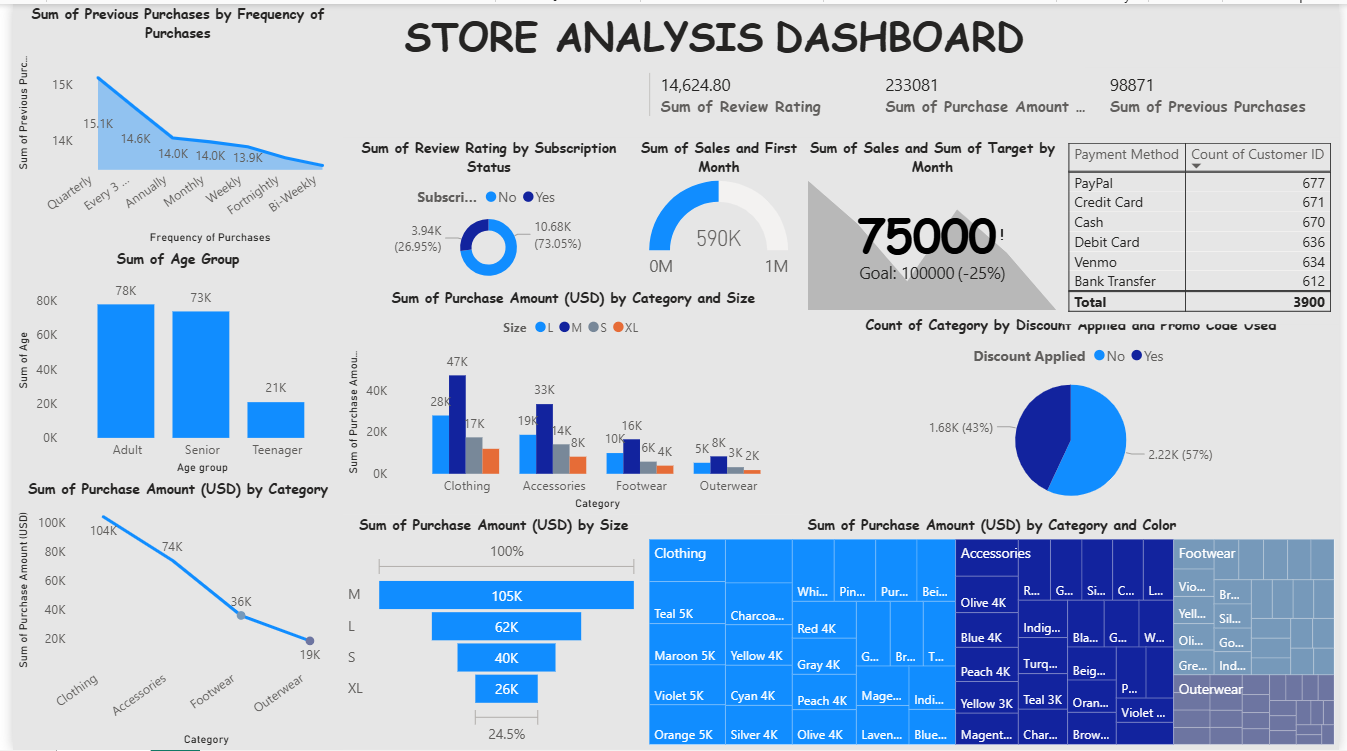

Layout of this report page (visuals, bound fields, positions):
{"tool":"powerbi","page":{"name":"Page 1","canvas":[1280,720],"ordinal":0},"visuals":[{"type":"clusteredColumnChart","title":"Sum of Age Group","fields":{"Y":["Sum(Store Analysis data.Age)"],"Category":["Store Analysis data.Age group"]},"box":[0,236,318.4,222.3],"z":0},{"type":"lineChart","fields":{"Category":["Store Analysis data.Category"],"Y":["Sum(Store Analysis data.Purchase Amount (USD))"]},"box":[0,458.3,318.4,262.1],"z":1000},{"type":"pieChart","fields":{"Category":["Store Analysis data.Discount Applied"],"Series":["Store Analysis data.Promo Code Used"],"Y":["CountNonNull(Store Analysis data.Category)"]},"box":[763,300.5,517.3,193.5],"z":2000},{"type":"funnel","fields":{"Category":["Store Analysis data.Size"],"Y":["Sum(Store Analysis data.Purchase Amount (USD))"]},"box":[318.4,494,290.9,226.4],"z":3000},{"type":"treemap","fields":{"Group":["Store Analysis data.Category"],"Details":["Store Analysis data.Color"],"Values":["Sum(Store Analysis data.Purchase Amount (USD))"]},"box":[609.3,494,671,226.4],"z":5000},{"type":"stackedAreaChart","fields":{"Category":["Store Analysis data.Frequency of Purchases"],"Y":["Sum(Store Analysis data.Previous Purchases)"]},"box":[0,0,318.4,236],"z":6000},{"type":"multiRowCard","fields":{"Values":["Sum(Store Analysis data.Review Rating)","Sum(Store Analysis data.Purchase Amount (USD))","Sum(Store Analysis data.Previous Purchases)"]},"box":[609.3,61.7,671,67.2],"z":7000},{"type":"clusteredColumnChart","fields":{"Category":["Store Analysis data.Category"],"Y":["Sum(Store Analysis data.Purchase Amount (USD))"],"Series":["Store Analysis data.Size"]},"box":[318.4,274.4,444.6,219.6],"z":8000},{"type":"tableEx","fields":{"Values":["Store Analysis data.Payment Method","CountNonNull(Store Analysis data.Customer ID)"]},"box":[1012.7,129,267.6,179.8],"z":9000},{"type":"textbox","box":[318.4,0,716.3,64.5],"z":10000},{"type":"donutChart","fields":{"Y":["Sum(Store Analysis data.Review Rating)"],"Category":["Store Analysis data.Subscription Status"]},"box":[318.4,129,281.3,145.5],"z":11000},{"type":"kpi","fields":{"Indicator":["Sum(Sheet1.Sales)"],"Goal":["Sum(Sheet1.Target)"],"TrendLine":["Sheet1.Month"]},"box":[763,129,249.7,171.5],"z":12000},{"type":"gauge","fields":{"Y":["Sum(Sheet1.Sales)"]},"box":[599.7,129,163.3,145.5],"z":13000}]}

Visuals, with their boxes in screenshot pixels (x1, y1, x2, y2), scaled from the page's 1280x720 canvas onto the 1347x751 screenshot:
"Sum of Age Group" clusteredColumnChart: [left=0, top=246, right=335, bottom=478]
lineChart - Store Analysis data.Category x Sum(Store Analysis data.Purchase Amount (USD)): [left=0, top=478, right=335, bottom=750]
pieChart - Store Analysis data.Discount Applied x Store Analysis data.Promo Code Used: [left=803, top=313, right=1346, bottom=515]
funnel - Store Analysis data.Size x Sum(Store Analysis data.Purchase Amount (USD)): [left=335, top=515, right=641, bottom=750]
treemap - Store Analysis data.Category x Store Analysis data.Color: [left=641, top=515, right=1346, bottom=750]
stackedAreaChart - Store Analysis data.Frequency of Purchases x Sum(Store Analysis data.Previous Purchases): [left=0, top=0, right=335, bottom=246]
multiRowCard - Sum(Store Analysis data.Review Rating) x Sum(Store Analysis data.Purchase Amount (USD)): [left=641, top=64, right=1346, bottom=134]
clusteredColumnChart - Store Analysis data.Category x Sum(Store Analysis data.Purchase Amount (USD)): [left=335, top=286, right=803, bottom=515]
tableEx - Store Analysis data.Payment Method x CountNonNull(Store Analysis data.Customer ID): [left=1066, top=135, right=1346, bottom=322]
textbox: [left=335, top=0, right=1089, bottom=67]
donutChart - Sum(Store Analysis data.Review Rating) x Store Analysis data.Subscription Status: [left=335, top=135, right=631, bottom=286]
kpi - Sum(Sheet1.Sales) x Sum(Sheet1.Target): [left=803, top=135, right=1066, bottom=313]
gauge - Sum(Sheet1.Sales): [left=631, top=135, right=803, bottom=286]
